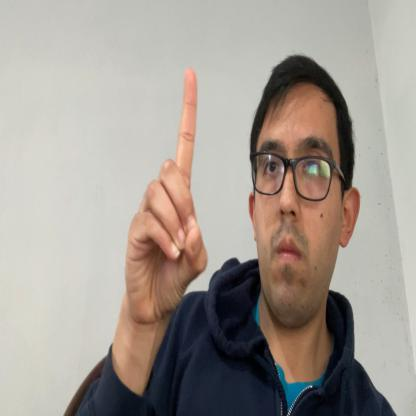D: (125, 68, 209, 324)
